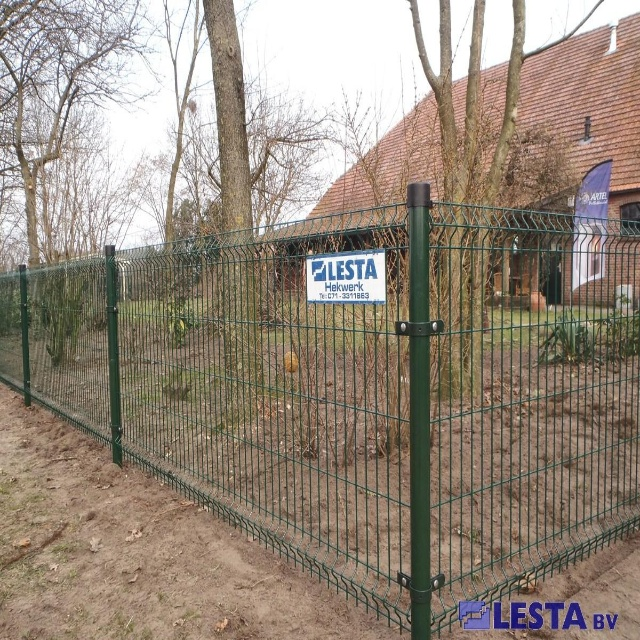obstacle: (0, 0, 449, 638)
